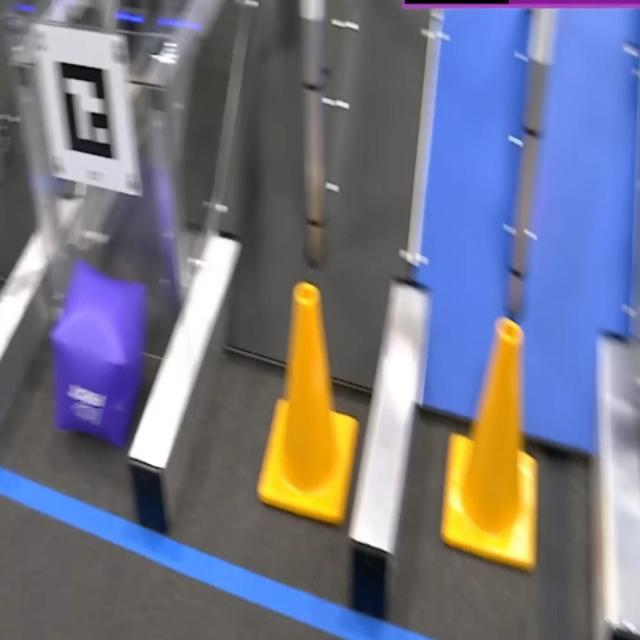frc_cone: (441, 316, 541, 572), (257, 283, 358, 529)
frc_cube: (51, 262, 145, 449)
